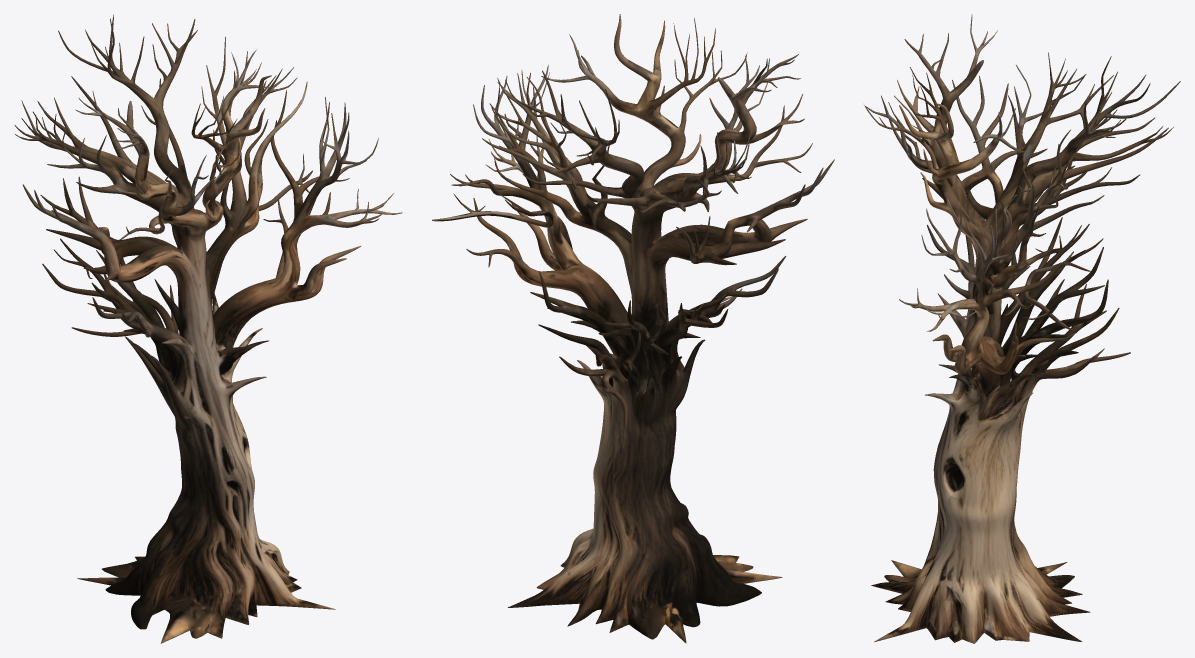
File: deadtree.glb
3 views of the same model, side by side, from view 1: azimuth 30°, elevation 25°; view 2: azimuth 150°, elevation 25°; view 3: azimuth 270°, elevation 25° (orthographic). The views are drawn at different scales.
Visible parts, largest first — view 1: node_0; view 2: node_0; view 3: node_0.
Boxes of the visible parts, <box> form: node_0: <box>14,14,402,643</box>; node_0: <box>432,14,834,643</box>; node_0: <box>864,14,1180,643</box>.
Bounding box in the file's own units: 0.6978 × 1.03 × 0.5576.
Materials: 1 (1 with a texture image).
